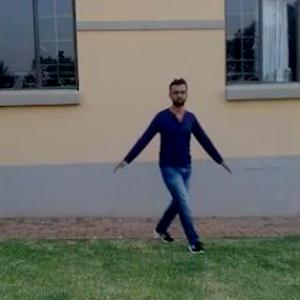land: (111, 78, 239, 247)
